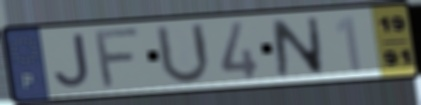1: (334, 14, 363, 73)
4: (217, 18, 262, 83)
F: (93, 26, 145, 91)
J: (52, 31, 92, 90)
N: (269, 15, 327, 79)
U: (152, 21, 214, 88)
